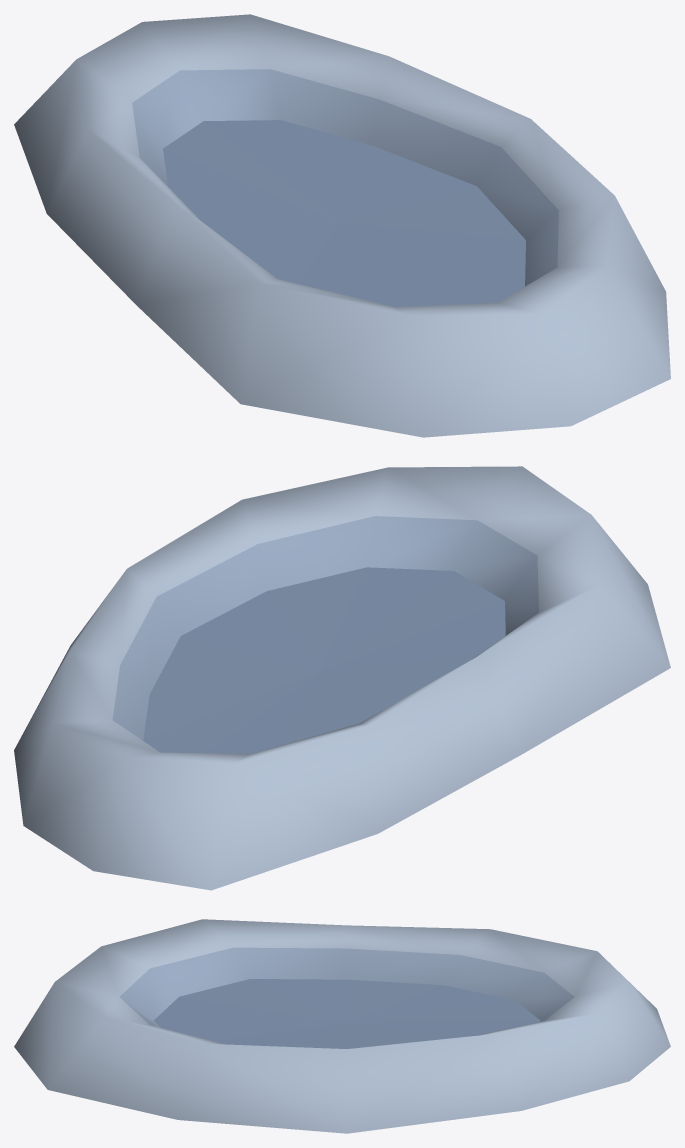
File: footprint_hd.glb
The picture shows the model from 3 angles, top to bottom: view 1: azimuth 30°, elevation 25°; view 2: azimuth 150°, elevation 25°; view 3: azimuth 270°, elevation 25°; orthographic projection. The views are drawn at different scales.
Parts seen in each view (by area): view 1: Footprint; view 2: Footprint; view 3: Footprint.
Part boxes in pixels (bbox=[...]): Footprint: bbox=[14, 14, 670, 437]; Footprint: bbox=[14, 466, 670, 890]; Footprint: bbox=[14, 919, 670, 1133].
Bounding box in the file's own units: 0.3563 × 0.065 × 0.5967.
